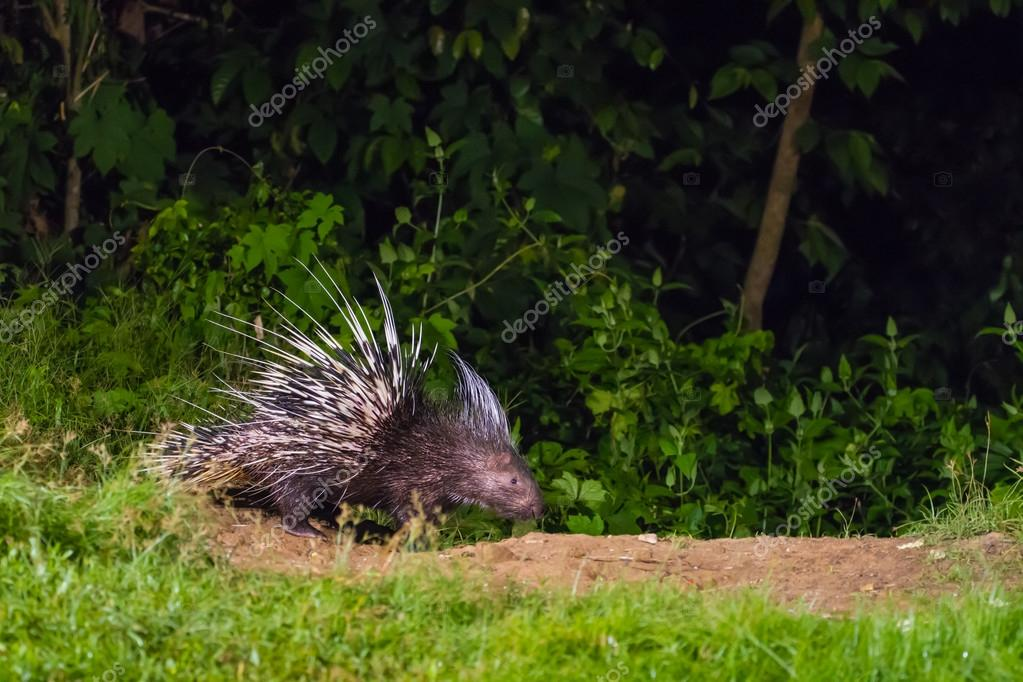porcupine: (134, 280, 576, 563)
